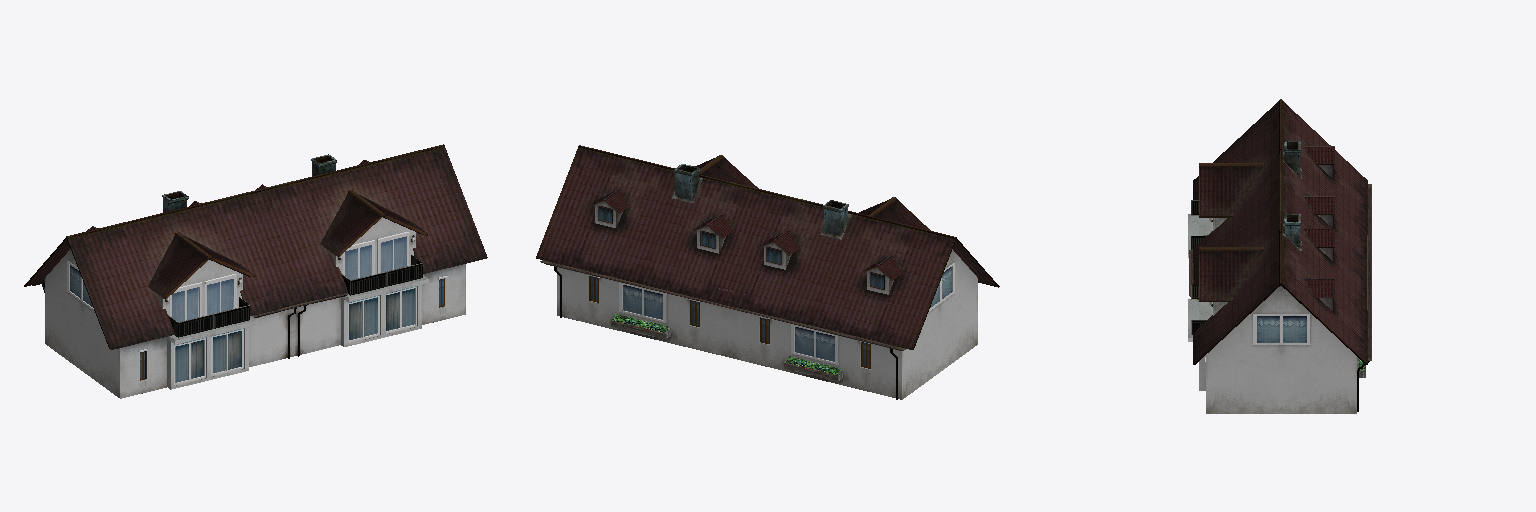
3 renders of one model, left to right at view 1: azimuth 30°, elevation 25°; view 2: azimuth 150°, elevation 25°; view 3: azimuth 270°, elevation 25°, orthographic.
Visible parts, largest first — view 1: City_building_033.001; view 2: City_building_033.001; view 3: City_building_033.001.
Boxes of the visible parts, x1=… form: City_building_033.001: x1=24, y1=144, x2=487, y2=398; City_building_033.001: x1=536, y1=145, x2=999, y2=399; City_building_033.001: x1=1188, y1=99, x2=1371, y2=413.
Size of the model in its own units: 3.9 by 1.46 by 1.65.
1 materials, 1 textured.